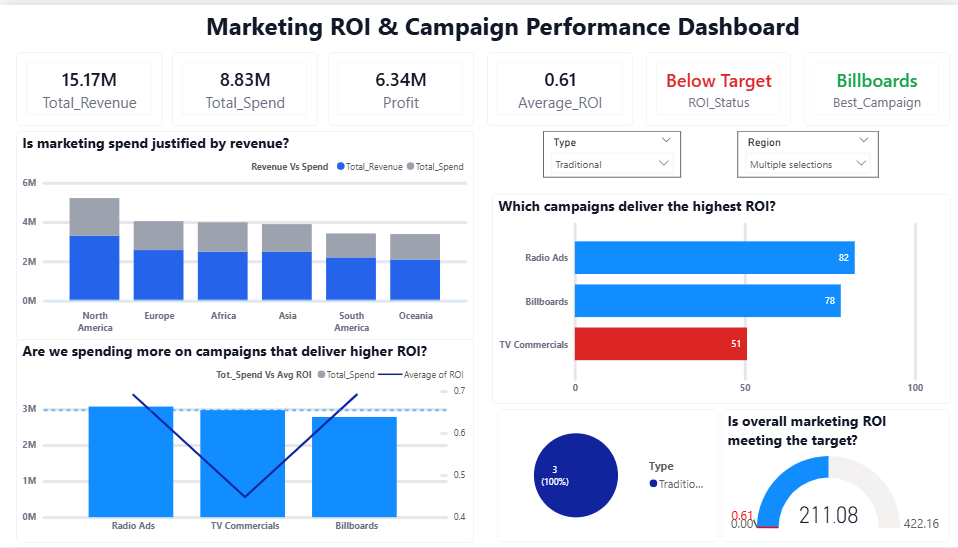

This screenshot's page, from the dashboard's own definition file:
{"tool":"powerbi","page":{"name":"Marketing Campaign","canvas":[1280,720],"ordinal":0},"visuals":[{"type":"columnChart","title":"Is marketing spend justified by revenue?","fields":{"Category":["marketing campaign performance.Region"],"Y":["marketing campaign performance.Total_Revenue","marketing campaign performance.Total_Spend"]},"box":[24,168,607.5,280],"z":0},{"type":"lineClusteredColumnComboChart","title":"Are we spending more on campaigns that deliver higher ROI?","fields":{"Category":["marketing campaign performance.Campaign_Name"],"Y":["marketing campaign performance.Total_Spend"],"Y2":["Avg(marketing campaign performance.ROI)"]},"box":[24,445,607.5,270],"z":1000},{"type":"clusteredBarChart","title":"Which campaigns deliver the highest ROI?","fields":{"Category":["marketing campaign performance.Campaign_Name"],"Y":["Sum(marketing campaign performance.ROI)"]},"box":[655.3,251.1,608.5,278.7],"z":2000},{"type":"pieChart","fields":{"Category":["marketing campaign details.Type"],"Y":["CountNonNull(marketing campaign details.Campaign_Name)"]},"box":[662.8,537.2,293,176.7],"z":3000},{"type":"gauge","title":"Is overall marketing ROI meeting the target?","fields":{"TargetValue":["Avg(marketing campaign performance.ROI)"],"Y":["Sum(marketing campaign performance.ROI)"]},"box":[960.5,537.2,302.3,176.7],"z":4000},{"type":"cardVisual","fields":{"Data":["marketing campaign performance.Total_Revenue"]},"box":[23.4,61.7,193.6,97.9],"z":5000},{"type":"cardVisual","fields":{"Data":["marketing campaign performance.Total_Spend"]},"box":[229.8,61.7,193.6,97.9],"z":6000},{"type":"cardVisual","fields":{"Data":["marketing campaign performance.Average_ROI"]},"box":[648.9,61.7,193.6,97.9],"z":7000},{"type":"cardVisual","fields":{"Data":["marketing campaign performance.Best_Campaign"]},"box":[1070.2,61.7,193.6,97.9],"z":8000},{"type":"slicer","fields":{"Values":["marketing campaign performance.Region"]},"box":[980.9,168.1,187.2,61.7],"z":9000},{"type":"slicer","fields":{"Values":["marketing campaign details.Type"]},"box":[723.4,168.1,183,61.7],"z":10000},{"type":"cardVisual","fields":{"Data":["marketing campaign performance.Profit"]},"box":[438.3,61.7,193.6,97.9],"z":11000},{"type":"cardVisual","fields":{"Data":["marketing campaign performance.ROI_Status"]},"box":[859.6,61.7,191.5,97.9],"z":12000},{"type":"textbox","box":[189.4,0,880.9,59.6],"z":13000}]}

Visuals, with their boxes in screenshot pixels (x1, y1, x2, y2), scaled from the page's 1280x720 canvas onto the 958x548 screenshot:
"Is marketing spend justified by revenue?" columnChart: left=18, top=128, right=473, bottom=341
"Are we spending more on campaigns that deliver higher ROI?" lineClusteredColumnComboChart: left=18, top=339, right=473, bottom=544
"Which campaigns deliver the highest ROI?" clusteredBarChart: left=490, top=191, right=946, bottom=403
pieChart - marketing campaign details.Type x CountNonNull(marketing campaign details.Campaign_Name): left=496, top=409, right=715, bottom=543
"Is overall marketing ROI meeting the target?" gauge: left=719, top=409, right=945, bottom=543
cardVisual - marketing campaign performance.Total_Revenue: left=18, top=47, right=162, bottom=121
cardVisual - marketing campaign performance.Total_Spend: left=172, top=47, right=317, bottom=121
cardVisual - marketing campaign performance.Average_ROI: left=486, top=47, right=631, bottom=121
cardVisual - marketing campaign performance.Best_Campaign: left=801, top=47, right=946, bottom=121
slicer - marketing campaign performance.Region: left=734, top=128, right=874, bottom=175
slicer - marketing campaign details.Type: left=541, top=128, right=678, bottom=175
cardVisual - marketing campaign performance.Profit: left=328, top=47, right=473, bottom=121
cardVisual - marketing campaign performance.ROI_Status: left=643, top=47, right=787, bottom=121
textbox: left=142, top=0, right=801, bottom=45
